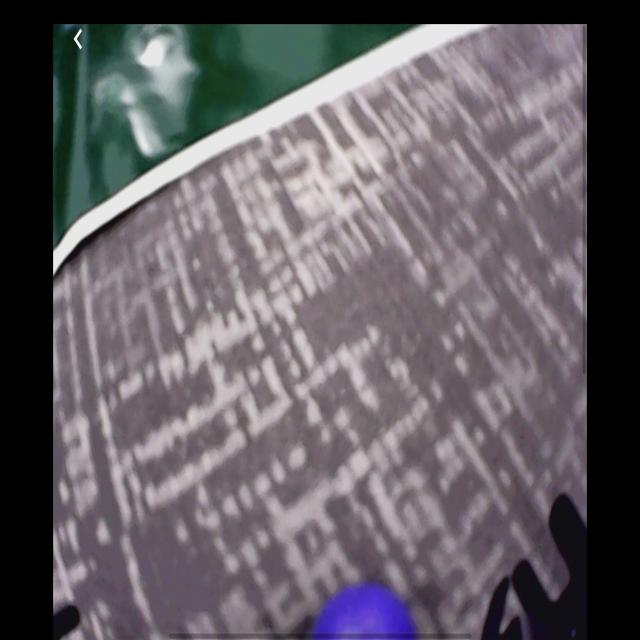ball: (307, 587, 417, 639)
